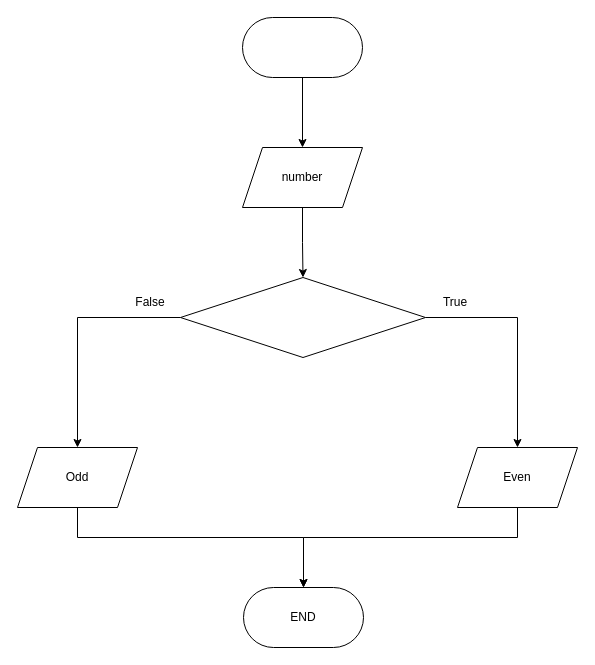
Some shapes in this 595 by 665 pixel diagram are drawn without their labels. Here are the shapes that lost their labels. From the top down, the box of each, then its label:
(242, 16, 362, 78): Main
(180, 276, 426, 358): number % 2 == 0
